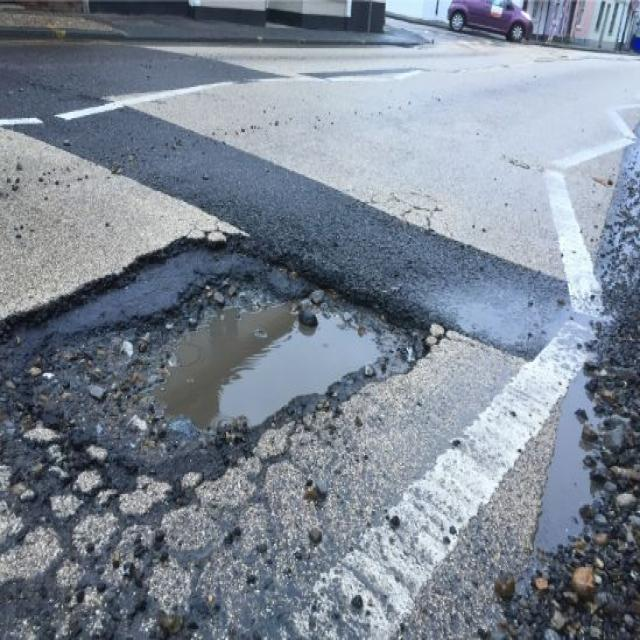pothole: (0, 219, 445, 486)
